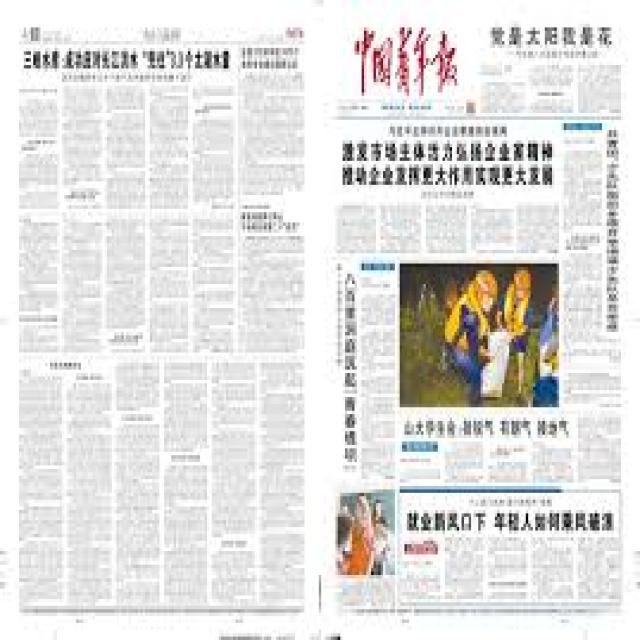paper: (9, 24, 618, 618)
